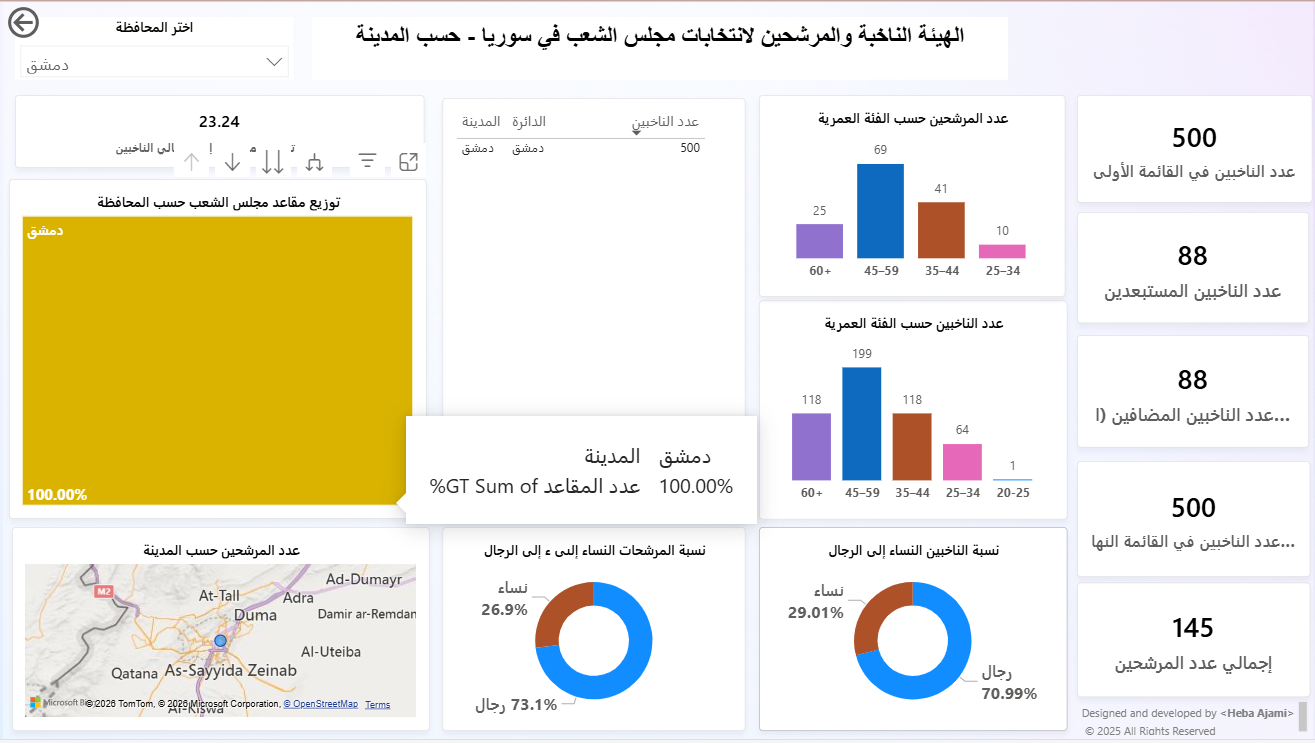

The page's visual inventory and layout, read from the dashboard file:
{"tool":"powerbi","page":{"name":"Page 1","canvas":[1280,720],"ordinal":0},"visuals":[{"type":"card","title":"إجمالي عدد الناخبين","fields":{"Values":["Sum(Sheet1.in_first)"]},"box":[1049.3,90.7,229.9,105.2],"z":0},{"type":"textbox","box":[301.2,14.6,680.1,61.5],"z":1000},{"type":"slicer","title":"اختر المحافظة","fields":{"Values":["Sheet1.city","Sheet1.district"]},"box":[11.3,14.6,272,61.5],"z":2000},{"type":"card","fields":{"Values":["Sheet1.Total Candidates"]},"box":[1049.3,566.7,228.3,111.7],"z":3000},{"type":"card","fields":{"Values":["Sheet1.Removed from Final"]},"box":[1049.3,205.6,226.7,108.5],"z":4000},{"type":"clusteredColumnChart","title":"عدد الناخبين حسب الفئة العمرية","fields":{"Category":["Sheet1.Age Group"],"Y":["Sum(Sheet1.in_final)"]},"box":[738.4,291.5,301.2,213.7],"z":5000},{"type":"tableEx","fields":{"Values":["Sheet1.city","Sheet1.district","Sum(Sheet1.in_final)"]},"box":[429.1,93.9,296.3,412.9],"z":6000},{"type":"donutChart","title":"نسبة الناخبين النساء إلى الرجال","fields":{"Category":["Sheet1.Column9"],"Y":["Sheet1.Total Voters"]},"box":[738.4,513.3,301.2,199.2],"z":7000},{"type":"map","title":"عدد المرشحين حسب المدينة","fields":{"Category":["Sheet1.city"],"Size":["Sheet1.Total Candidates"]},"box":[8.1,513.3,408,199.2],"z":8000},{"type":"card","fields":{"Values":["Sheet1.Added to Final"]},"box":[1049.3,325.5,226.7,110.1],"z":9000},{"type":"card","fields":{"Values":["Sheet1.Voters in Final List"]},"box":[1049.3,448.5,228.3,113.3],"z":10000},{"type":"clusteredColumnChart","title":"عدد المرشحين حسب الفئة العمرية","fields":{"Category":["Sheet1.Age Group"],"Y":["Sheet1.Total Candidates"]},"box":[738.4,90.7,299.6,197.5],"z":11000},{"type":"donutChart","title":"نسبة المرشحات النساء إلىى ء إلى الرجال","fields":{"Category":["Sheet1.Column9"],"Y":["Sheet1.Total Candidates"]},"box":[429.1,513.3,296.3,199.2],"z":12000},{"type":"card","fields":{"Values":["Sheet1.Candidate Representation %"]},"box":[11.3,90.7,399.9,71.2],"z":13000},{"type":"actionButton","box":[0,0,100,40],"z":14000},{"type":"textbox","box":[1049.3,678.5,229.9,42.1],"z":15000},{"type":"treemap","title":"توزيع مقاعد مجلس الشعب حسب المحافظة","fields":{"Group":["ورقة1.المدينة","ورقة1.الدائرة الانتخابية"],"Values":["Sum(ورقة1.عدد المقاعد )"]},"box":[6.5,173.3,408,331.9],"z":16000}]}

Visuals, with their boxes in screenshot pixels (x1, y1, x2, y2), scaled from the page's 1280x720 canvas onto the 1315x743 screenshot:
"إجمالي عدد الناخبين" card: 1078:94:1314:202
textbox: 309:15:1008:79
"اختر المحافظة" slicer: 12:15:291:79
card - Sheet1.Total Candidates: 1078:585:1313:700
card - Sheet1.Removed from Final: 1078:212:1311:324
"عدد الناخبين حسب الفئة العمرية" clusteredColumnChart: 759:301:1068:521
tableEx - Sheet1.city x Sheet1.district: 441:97:745:523
"نسبة الناخبين النساء إلى الرجال" donutChart: 759:530:1068:735
"عدد المرشحين حسب المدينة" map: 8:530:427:735
card - Sheet1.Added to Final: 1078:336:1311:450
card - Sheet1.Voters in Final List: 1078:463:1313:580
"عدد المرشحين حسب الفئة العمرية" clusteredColumnChart: 759:94:1066:297
"نسبة المرشحات النساء إلىى ء إلى الرجال" donutChart: 441:530:745:735
card - Sheet1.Candidate Representation %: 12:94:422:167
actionButton: 0:0:103:41
textbox: 1078:700:1314:742
"توزيع مقاعد مجلس الشعب حسب المحافظة" treemap: 7:179:426:521
